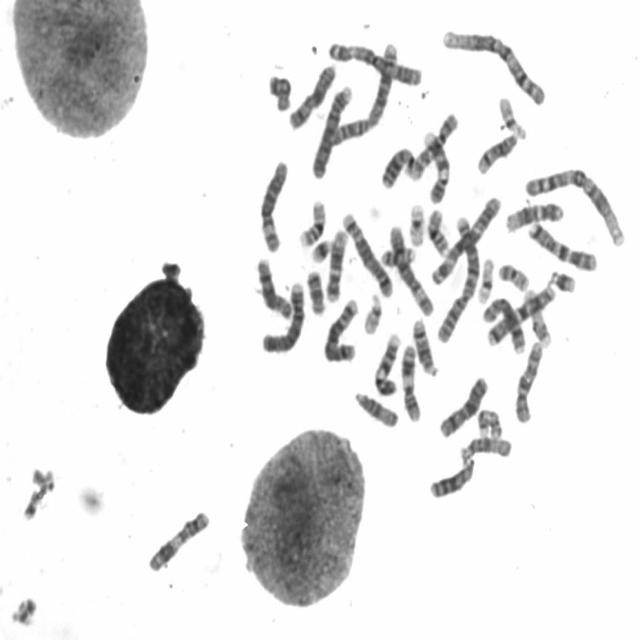A1: (439, 22, 549, 108), (522, 162, 628, 248)
A2: (328, 37, 399, 145), (433, 206, 483, 344)
A3: (428, 190, 503, 286), (325, 36, 424, 88)
B4: (308, 79, 356, 180), (258, 276, 308, 354)
B5: (338, 206, 396, 299), (320, 294, 362, 364)
C10: (405, 106, 461, 182), (511, 335, 546, 425)
C11: (145, 505, 213, 574), (398, 341, 423, 424)
C12: (502, 195, 567, 234), (323, 224, 351, 303)
C6: (385, 218, 437, 318), (256, 154, 292, 254)
C7: (483, 280, 558, 347), (524, 215, 600, 273)
C8: (480, 291, 528, 355), (253, 252, 295, 322)
C9: (419, 124, 452, 205), (371, 327, 404, 398)
D13: (426, 452, 477, 500), (378, 142, 419, 190)
D14: (474, 127, 521, 176), (409, 312, 441, 378)
D15: (351, 386, 401, 429), (456, 430, 514, 462)
E16: (296, 194, 328, 249), (423, 203, 452, 258)
E17: (521, 284, 553, 349), (474, 404, 504, 440)
E18: (265, 68, 294, 113), (304, 264, 327, 316)
F19: (474, 252, 497, 305), (405, 198, 427, 248)
F20: (494, 257, 532, 293), (378, 242, 418, 268)
G21: (546, 264, 579, 294), (308, 233, 334, 264)
G22: (495, 90, 529, 140), (360, 289, 385, 336)
X: (285, 58, 338, 132), (436, 370, 491, 440)
